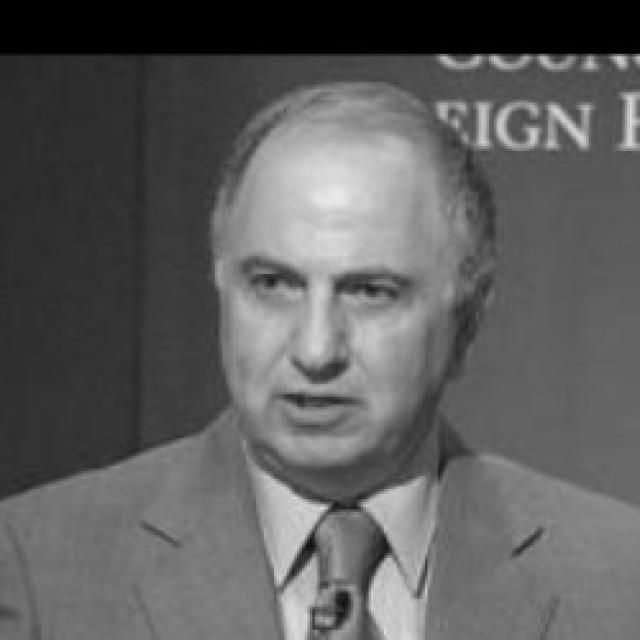real: (214, 112, 492, 476), (238, 256, 418, 314)
